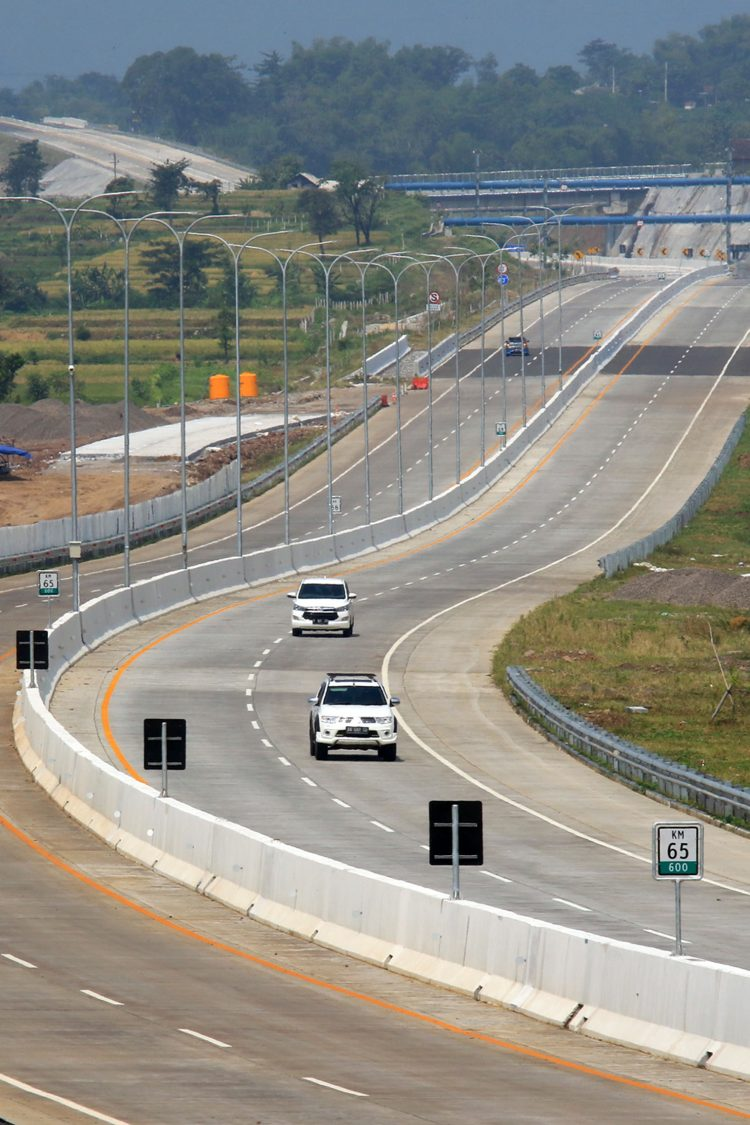car: (314, 675, 403, 763), (291, 576, 351, 641), (505, 334, 528, 357)
